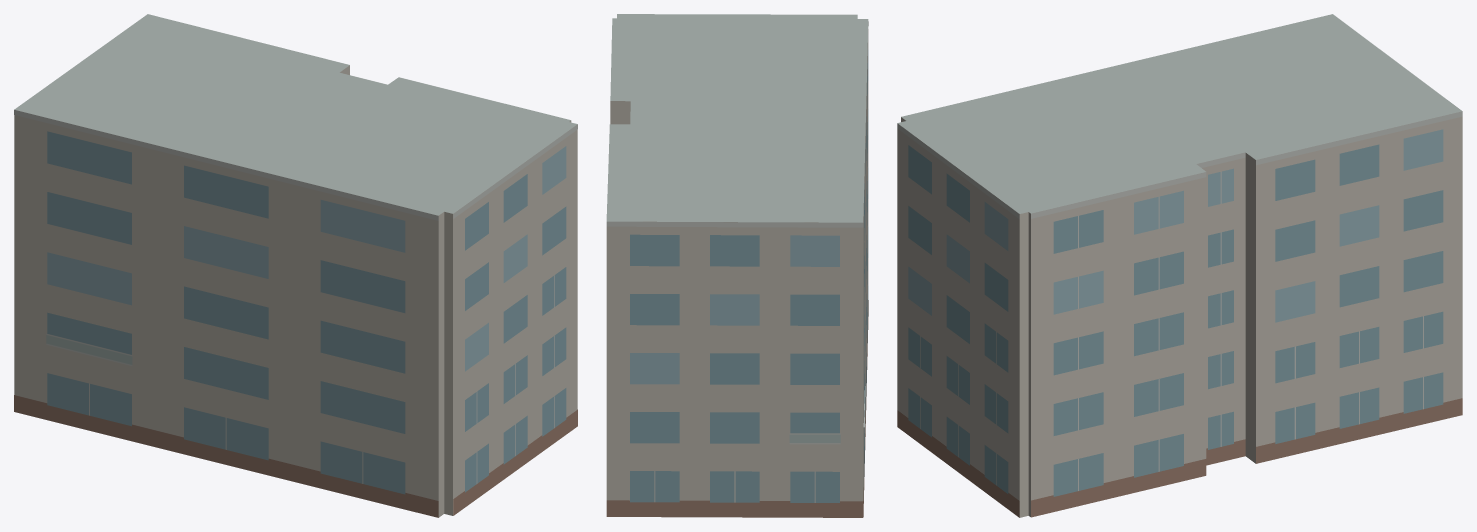
File: survey-upis-32721116.glb
The picture shows the model from 3 angles, left to right: view 1: azimuth 30°, elevation 25°; view 2: azimuth 150°, elevation 25°; view 3: azimuth 270°, elevation 25°; orthographic projection. The views are drawn at different scales.
Parts seen in each view (by area): view 1: survey-upis-32721116.tmp; view 2: survey-upis-32721116.tmp; view 3: survey-upis-32721116.tmp.
Part boxes in pixels (box(x1,y1,x2,y2)): survey-upis-32721116.tmp: box(14, 14, 577, 517); survey-upis-32721116.tmp: box(606, 14, 868, 517); survey-upis-32721116.tmp: box(897, 14, 1462, 517).
Size of the model in its own units: 19.93 by 14.1 by 23.79.
